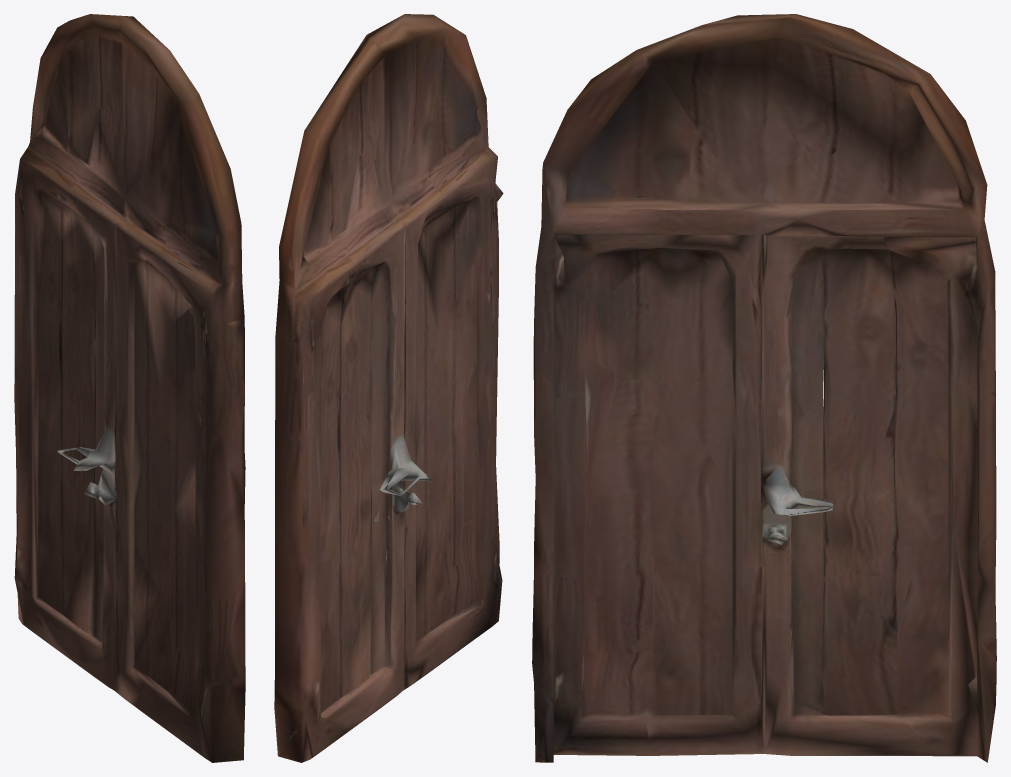
The model's file is 拱形砖门框.glb.
3 views of the same model, side by side, from view 1: azimuth 30°, elevation 25°; view 2: azimuth 150°, elevation 25°; view 3: azimuth 270°, elevation 25° (orthographic). The views are drawn at different scales.
Visible parts, largest first — view 1: tripo_node_ba2252f8-4096-4f1a-9be1-d3cb8f0ae81a; view 2: tripo_node_ba2252f8-4096-4f1a-9be1-d3cb8f0ae81a; view 3: tripo_node_ba2252f8-4096-4f1a-9be1-d3cb8f0ae81a.
Part boxes in pixels (box(x1,y1,x2,y2)): tripo_node_ba2252f8-4096-4f1a-9be1-d3cb8f0ae81a: box(14, 14, 245, 762); tripo_node_ba2252f8-4096-4f1a-9be1-d3cb8f0ae81a: box(274, 14, 503, 762); tripo_node_ba2252f8-4096-4f1a-9be1-d3cb8f0ae81a: box(532, 14, 996, 762).
Size of the model in its own units: 0.1286 by 0.9955 by 0.5626.
Materials: 1 (1 with a texture image).
